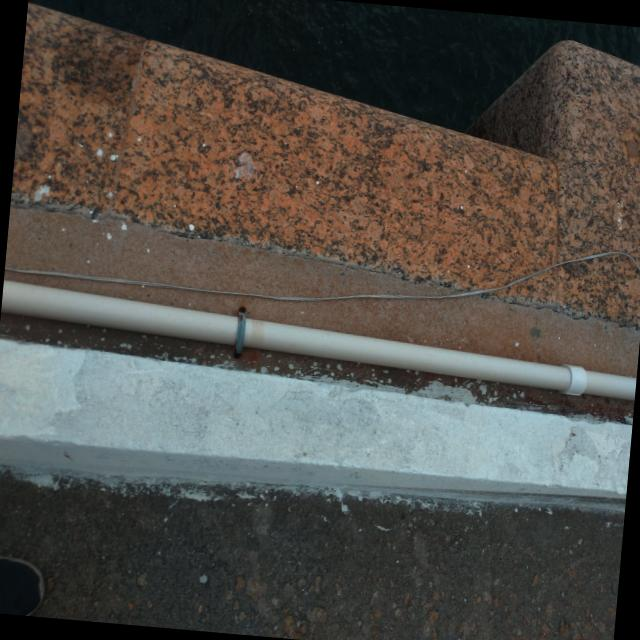gas: (0, 275, 640, 402)
